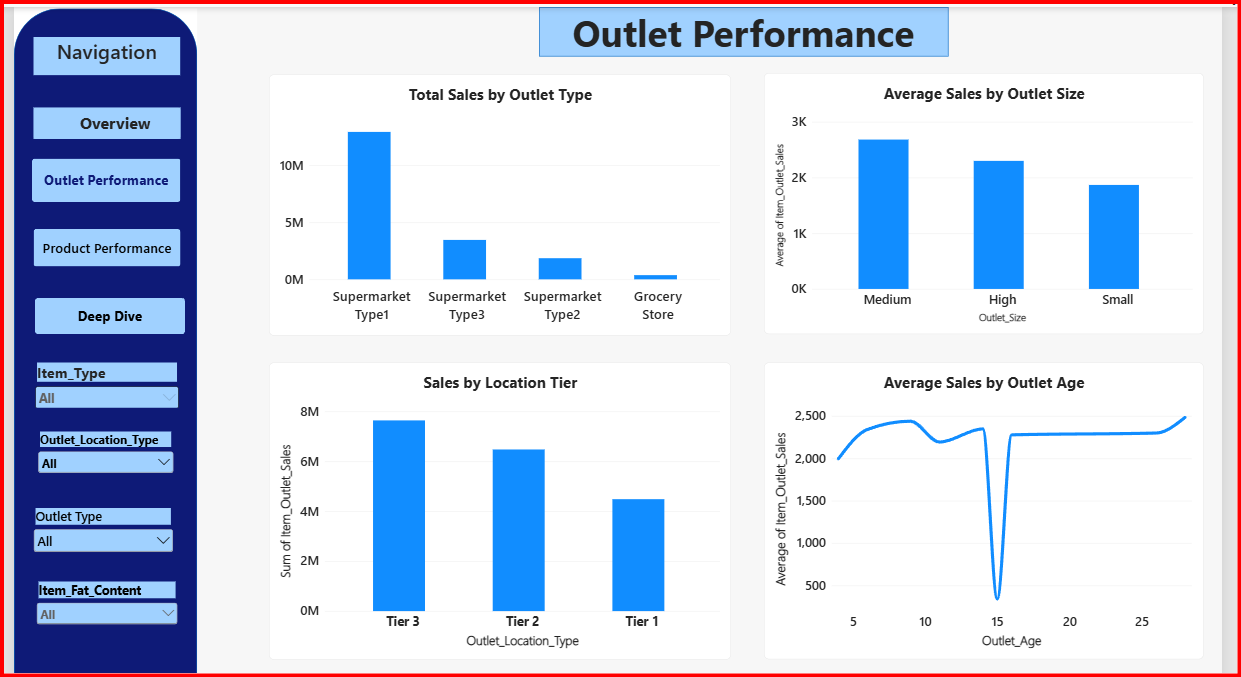

The dashboard page shown, as its layout file describes it:
{"tool":"powerbi","page":{"name":"Outlet Performance","canvas":[1920,1080],"ordinal":1},"visuals":[{"type":"shape","box":[0,2.4,291.3,1077.5],"z":0,"group":"g1"},{"type":"clusteredColumnChart","title":"Total Sales by Outlet Type","fields":{"Category":["Bigmart_sales_data.Outlet_Type"],"Y":["Sum(Bigmart_sales_data.Item_Outlet_Sales)"]},"box":[405.6,107.4,734.9,415.1],"z":0},{"type":"clusteredColumnChart","title":"Average Sales by Outlet Size","fields":{"Category":["Bigmart_sales_data.Outlet_Size"],"Y":["Avg(Bigmart_sales_data.Item_Outlet_Sales)"]},"box":[1193,105,699.1,415.1],"z":1000},{"type":"slicer","fields":{"Values":["Bigmart_sales_data.Outlet_Location_Type"]},"box":[33.4,675.2,224.8,74.1],"z":1000,"group":"g1"},{"type":"slicer","fields":{"Values":["Bigmart_sales_data.Item_Type"]},"box":[28.6,565.5,238.6,71.7],"z":2000,"group":"g1"},{"type":"clusteredColumnChart","title":"Sales by Location Tier","fields":{"Category":["Bigmart_sales_data.Outlet_Location_Type"],"Y":["Sum(Bigmart_sales_data.Item_Outlet_Sales)"]},"box":[405.6,565.5,734.9,472.4],"z":2000},{"type":"lineChart","title":"Average Sales by Outlet Age","fields":{"Category":["Bigmart_sales_data.Outlet_Age"],"Y":["Avg(Bigmart_sales_data.Item_Outlet_Sales)"]},"box":[1193,565.5,699,472],"z":3000},{"type":"slicer","fields":{"Values":["Bigmart_sales_data.Item_Fat_Content"]},"box":[31,913.8,234,74.1],"z":3000,"group":"g1"},{"type":"group","id":"g1","title":"Group 2","box":[0,2.4,291.3,1077.5],"z":4000},{"type":"textbox","box":[31,47.7,233.3,60.7],"z":4000,"group":"g1"},{"type":"shape","box":[835,0,651.4,78.7],"z":5000,"group":"g2"},{"type":"actionButton","box":[31,159.9,234,50.2],"z":5000,"group":"g1"},{"type":"textbox","box":[834.8,0,650,78],"z":6000,"group":"g2"},{"type":"actionButton","box":[28.6,241,236.3,69.3],"z":6000,"group":"g1"},{"type":"group","id":"g2","title":"Group 1","box":[834.8,0,651.6,78.7],"z":6001},{"type":"actionButton","box":[31,353.1,234,59.7],"z":7000,"group":"g1"},{"type":"actionButton","box":[33.4,462.9,238.6,57.3],"z":8000,"group":"g1"},{"type":"slicer","fields":{"Values":["Bigmart_sales_data.Outlet_Type"]},"box":[26.2,796.9,231.4,81.1],"z":9000,"group":"g1"}]}

Visuals, with their boxes on the page's 1920x1080 design canvas (x1, y1, x2, y2). These are canvas units, not pixel positions in the 1241x677 screenshot, which may show the page scaled, cropped or inside an application window:
shape: x1=0 y1=2 x2=291 y2=1080
"Total Sales by Outlet Type" clusteredColumnChart: x1=406 y1=107 x2=1140 y2=522
"Average Sales by Outlet Size" clusteredColumnChart: x1=1193 y1=105 x2=1892 y2=520
slicer - Bigmart_sales_data.Outlet_Location_Type: x1=33 y1=675 x2=258 y2=749
slicer - Bigmart_sales_data.Item_Type: x1=29 y1=566 x2=267 y2=637
"Sales by Location Tier" clusteredColumnChart: x1=406 y1=566 x2=1140 y2=1038
"Average Sales by Outlet Age" lineChart: x1=1193 y1=566 x2=1892 y2=1038
slicer - Bigmart_sales_data.Item_Fat_Content: x1=31 y1=914 x2=265 y2=988
"Group 2" group: x1=0 y1=2 x2=291 y2=1080
textbox: x1=31 y1=48 x2=264 y2=108
shape: x1=835 y1=0 x2=1486 y2=79
actionButton: x1=31 y1=160 x2=265 y2=210
textbox: x1=835 y1=0 x2=1485 y2=78
actionButton: x1=29 y1=241 x2=265 y2=310
"Group 1" group: x1=835 y1=0 x2=1486 y2=79
actionButton: x1=31 y1=353 x2=265 y2=413
actionButton: x1=33 y1=463 x2=272 y2=520
slicer - Bigmart_sales_data.Outlet_Type: x1=26 y1=797 x2=258 y2=878
